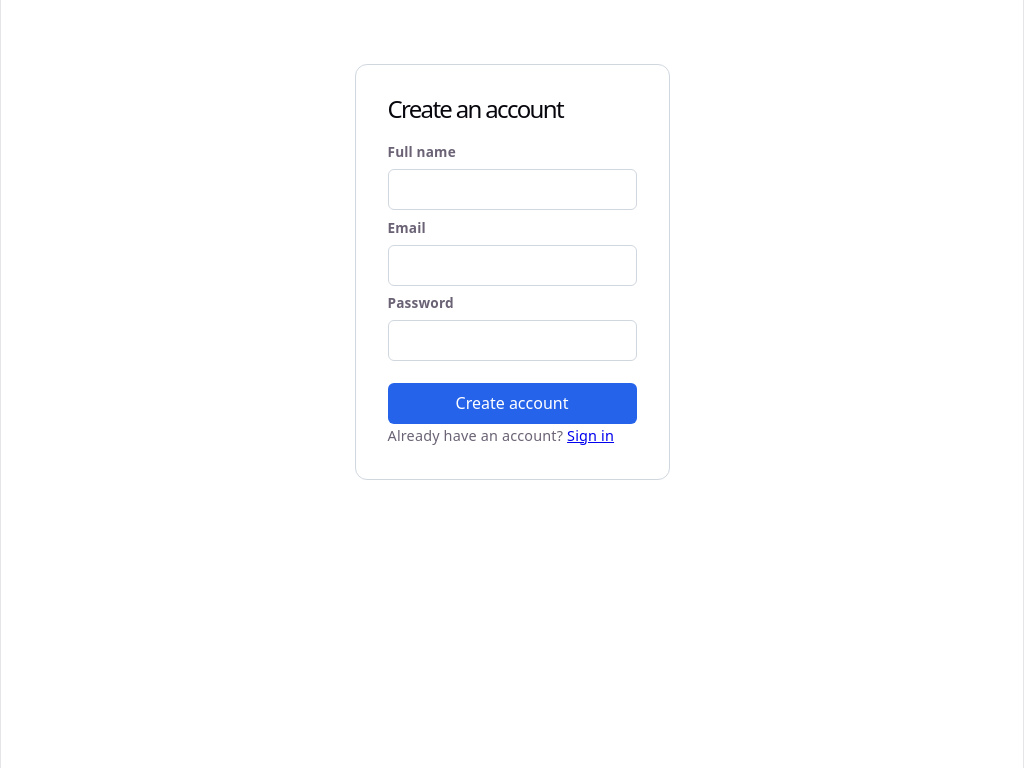
Test: registering › reports field validation errors from the backend
Step 1. Type "Grace Hopper" into the field labelled "Full name" → coordinates (512, 190), box [388,169,636,210]
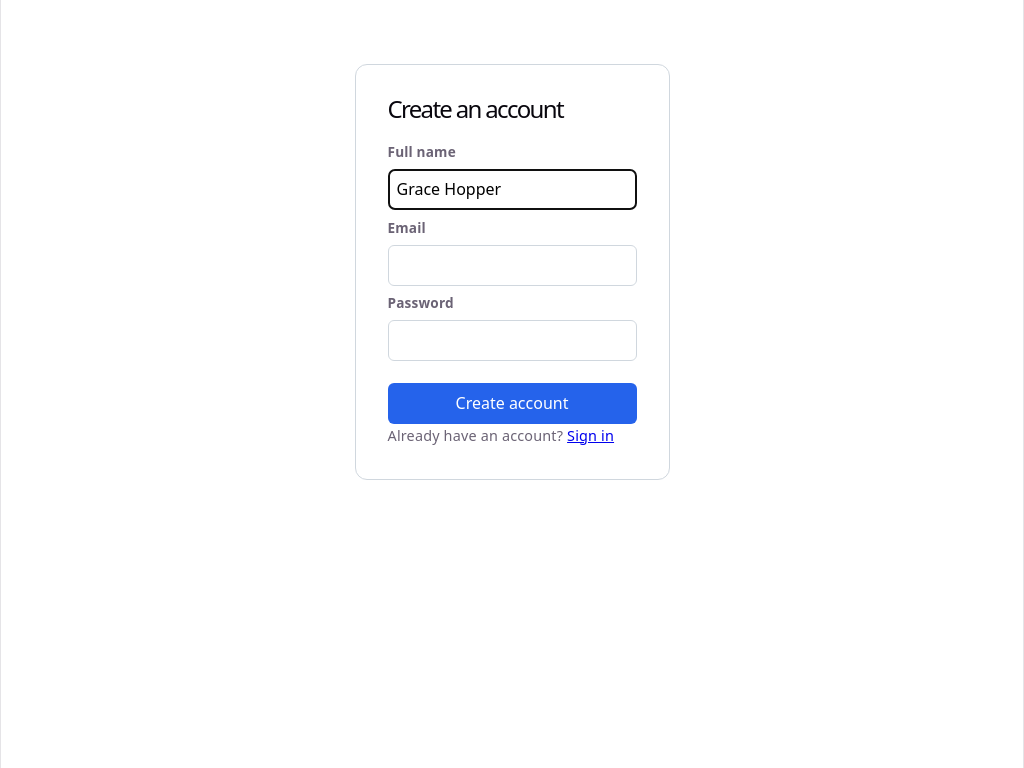
Step 2. Type "grace@example.com" into the field labelled "Email" → coordinates (512, 265), box [388,245,636,286]
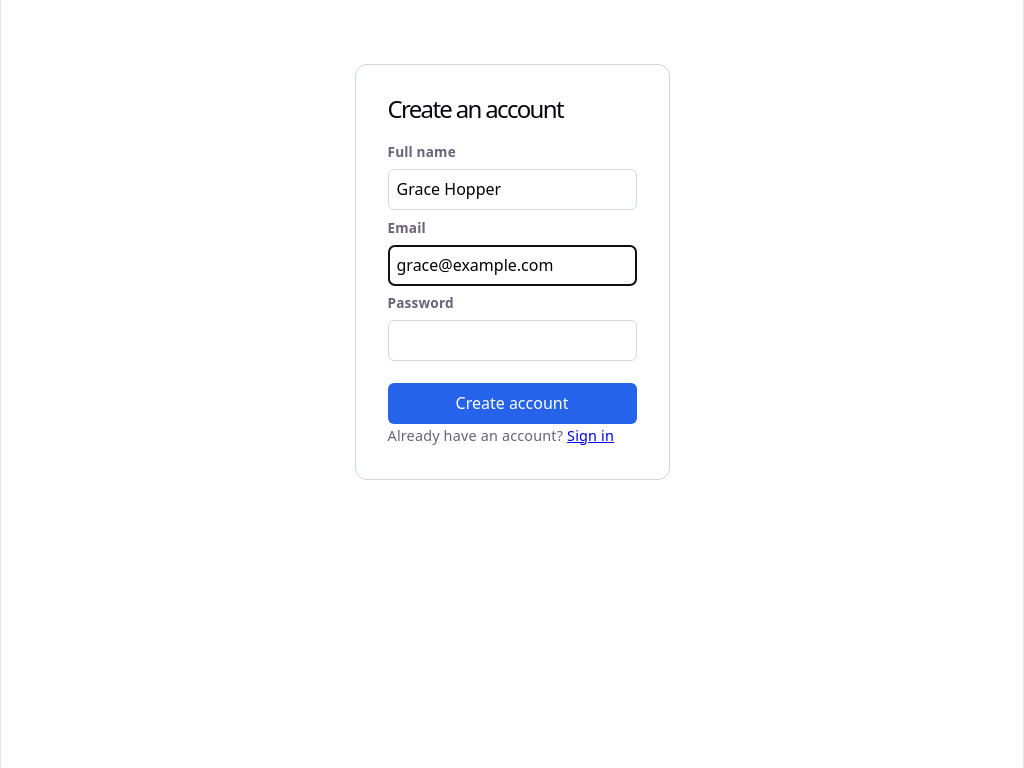
Step 3. Type "super-secret-1" into the password field labelled "Password" → coordinates (512, 341), box [388,320,636,361]
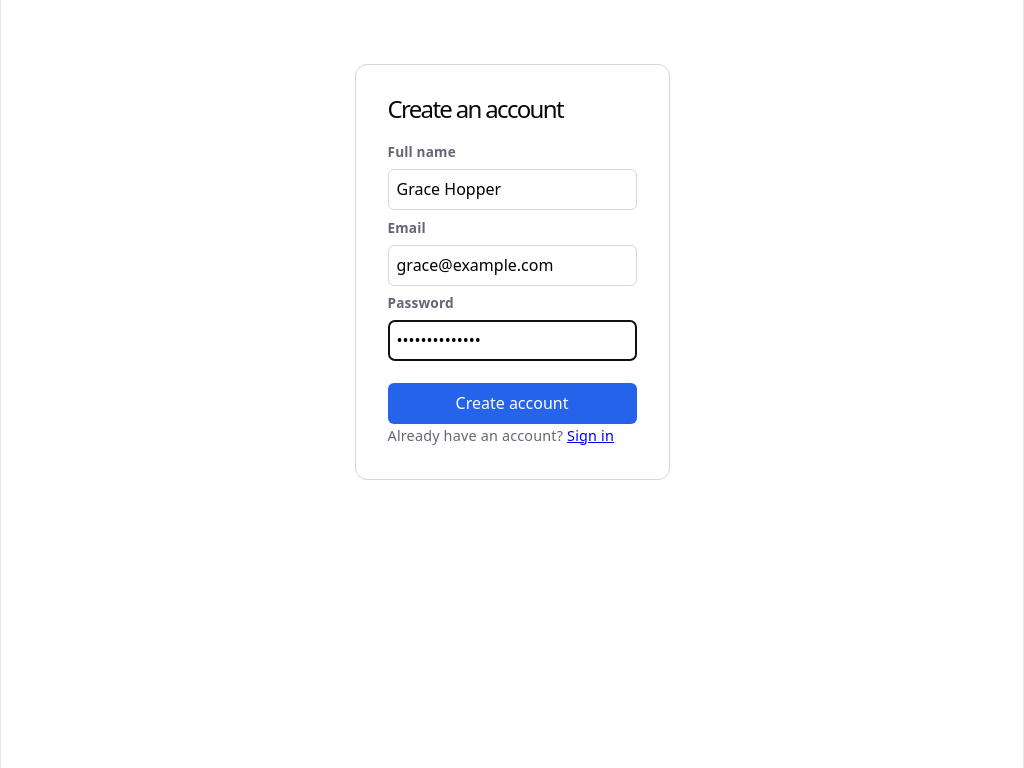
Step 4. Click the button "Create account" → coordinates (512, 403), box [388,383,636,424]
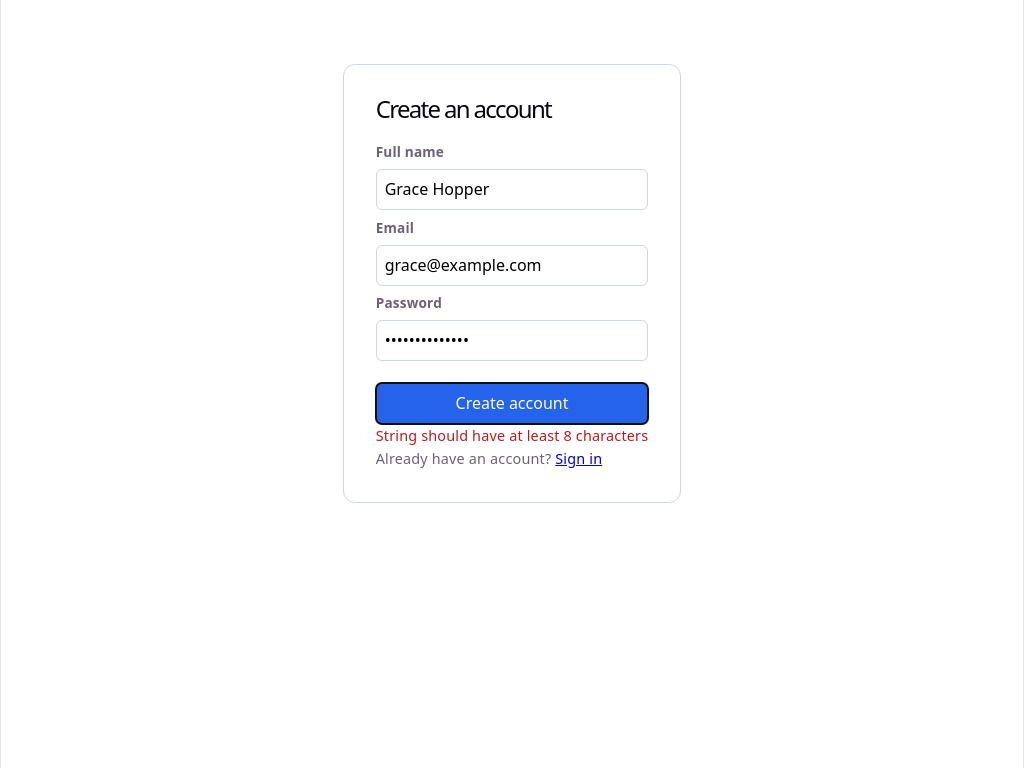
Expected: the message reads "String should have at least 8 characters", [376,426,648,445]
